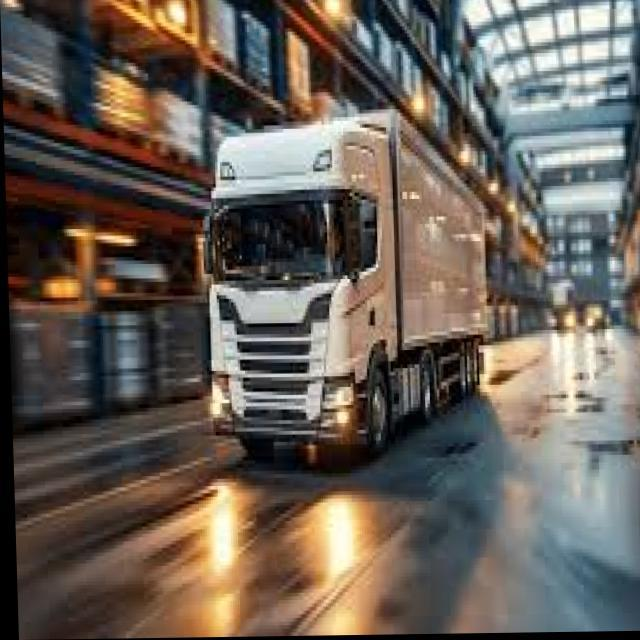covered: (195, 102, 490, 465)
